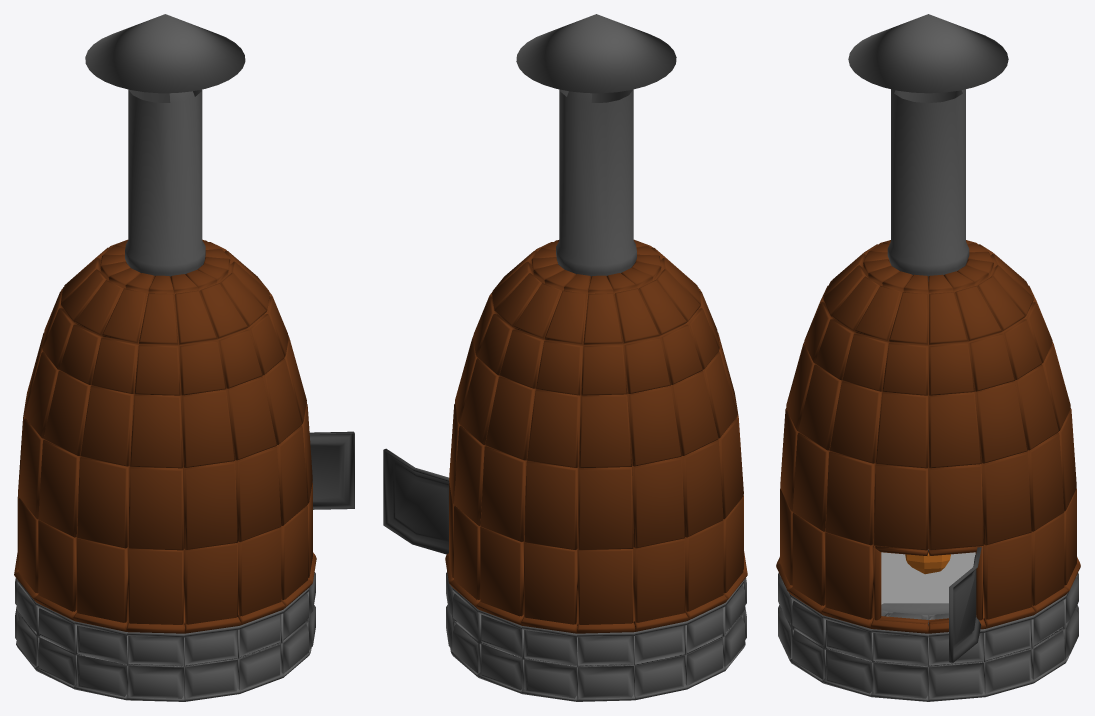
The model's file is furnace.fbx.
The picture shows the model from 3 angles, left to right: view 1: azimuth 30°, elevation 25°; view 2: azimuth 150°, elevation 25°; view 3: azimuth 270°, elevation 25°; orthographic projection.
Visible parts, largest first — view 1: Circle.002; view 2: Circle.002; view 3: Circle.002, Smoke Domain, Sphere.
Part boxes in pixels (box(x1,y1,x2,y2)): Circle.002: box(14, 14, 354, 701); Circle.002: box(383, 14, 747, 701); Circle.002: box(776, 14, 1080, 701); Smoke Domain: box(881, 552, 975, 604); Sphere: box(905, 553, 950, 574).
Size of the model in its own units: 258 by 464 by 205.
